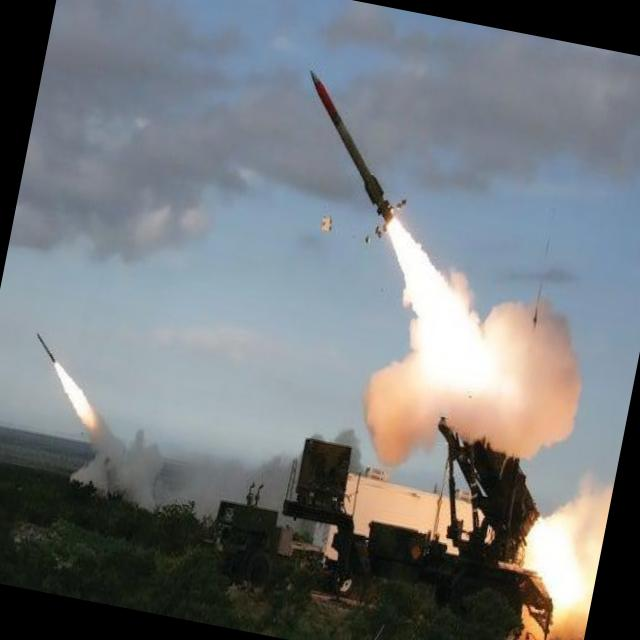rocket: (256, 57, 482, 345)
